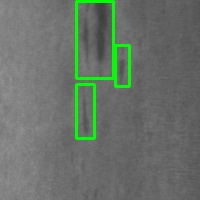inclusion: (76, 1, 113, 78), (76, 84, 94, 138), (115, 45, 129, 86)
